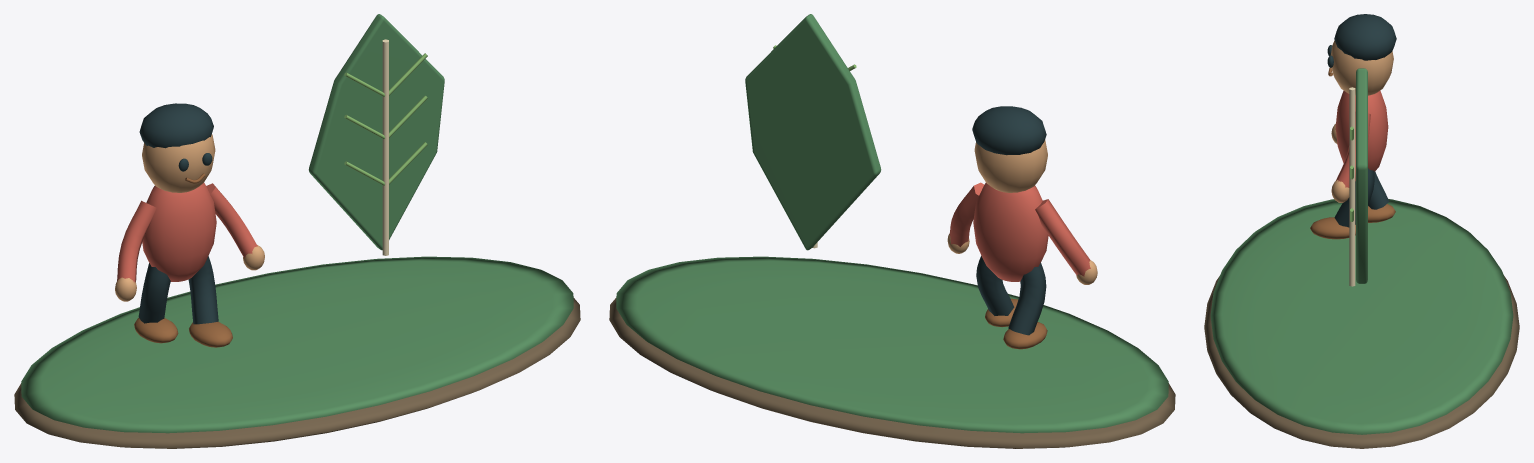
The model's file is little-leaf.glb.
The picture shows the model from 3 angles, left to right: view 1: azimuth 30°, elevation 25°; view 2: azimuth 150°, elevation 25°; view 3: azimuth 270°, elevation 25°; orthographic projection. The views are drawn at different scales.
Parts seen in each view (by area): view 1: little-leaf_surface_01, little-leaf_surface_00, little-leaf_surface_07, little-leaf_surface_05, little-leaf_surface_04, little-leaf_surface_06, little-leaf_surface_02, little-leaf_surface_03; view 2: little-leaf_surface_01, little-leaf_surface_00, little-leaf_surface_07, little-leaf_surface_05, little-leaf_surface_04, little-leaf_surface_06; view 3: little-leaf_surface_01, little-leaf_surface_00, little-leaf_surface_05, little-leaf_surface_07, little-leaf_surface_04, little-leaf_surface_02, little-leaf_surface_06.
Part boxes in pixels (x1,y1,x2,y2): little-leaf_surface_01: [21, 14, 573, 433]; little-leaf_surface_00: [14, 298, 580, 448]; little-leaf_surface_07: [117, 183, 257, 282]; little-leaf_surface_05: [138, 103, 218, 324]; little-leaf_surface_04: [115, 134, 264, 301]; little-leaf_surface_06: [134, 173, 232, 347]; little-leaf_surface_02: [382, 39, 388, 255]; little-leaf_surface_03: [344, 53, 427, 185]; little-leaf_surface_01: [616, 14, 1168, 433]; little-leaf_surface_00: [609, 298, 1175, 448]; little-leaf_surface_07: [949, 182, 1090, 281]; little-leaf_surface_05: [972, 106, 1046, 335]; little-leaf_surface_04: [947, 139, 1097, 284]; little-leaf_surface_06: [985, 298, 1047, 349]; little-leaf_surface_01: [1210, 68, 1513, 434]; little-leaf_surface_00: [1204, 276, 1519, 448]; little-leaf_surface_05: [1327, 14, 1396, 227]; little-leaf_surface_07: [1335, 90, 1388, 187]; little-leaf_surface_04: [1330, 40, 1393, 202]; little-leaf_surface_02: [1349, 87, 1355, 286]; little-leaf_surface_06: [1310, 67, 1395, 239].
Bounding box in the file's own units: 4.56 × 2.72 × 2.5.
